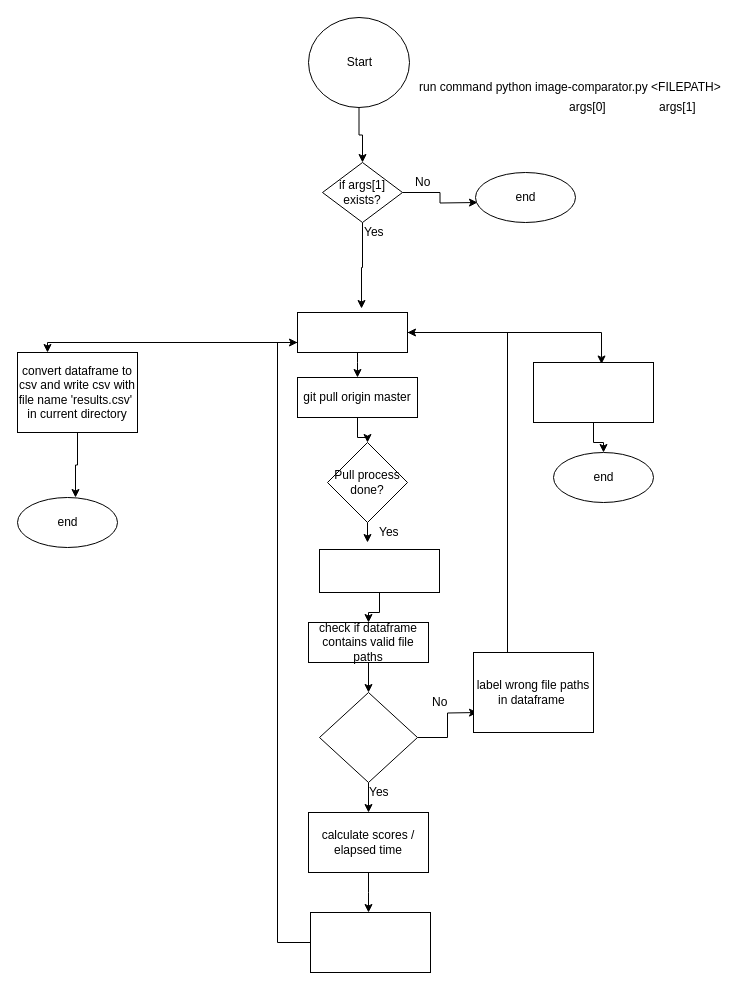
The diagram is 755 pixels wide and 990 high, and some of its shapes have lost their labels. Here are the shapes that lost their labels. From the top down, the centre of each, then its label:
At pixel 352 332: "main()".
At pixel 593 392: "convert dataframe to csv and write in dump folder".
At pixel 379 570: "parse csv to get dataframe".
At pixel 368 737: "is csv good ?".
At pixel 370 942: "create dataframe and return to main".
